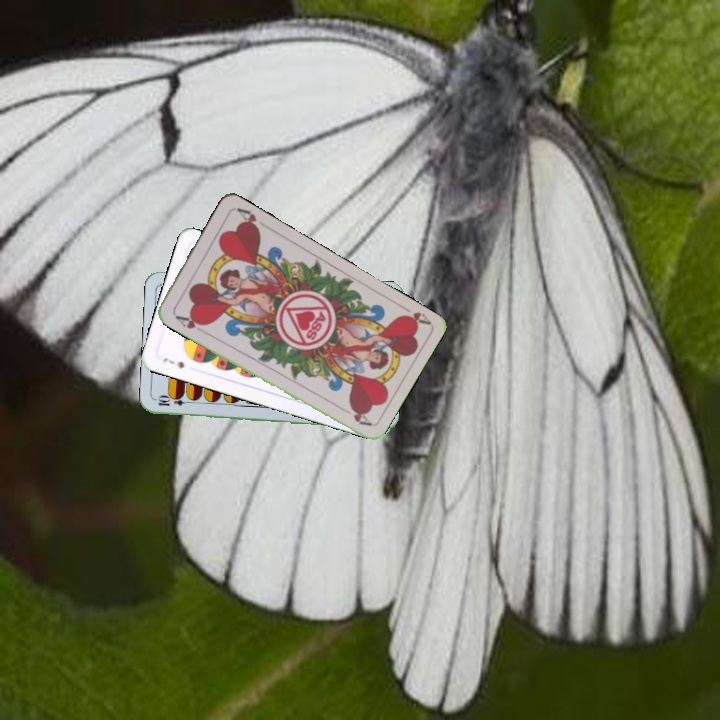E10: (154, 394, 194, 408)
HA: (395, 300, 432, 329), (170, 309, 209, 336)
S7: (159, 354, 187, 371)
